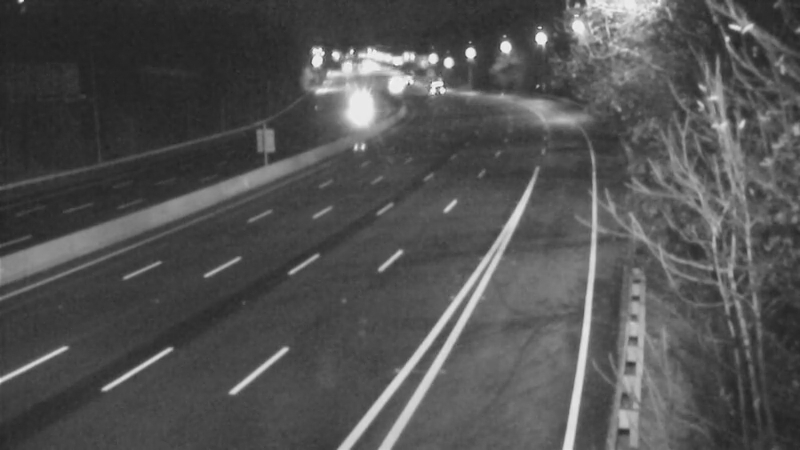vehicle: (402, 64, 452, 114), (372, 63, 422, 113), (331, 81, 381, 131)
